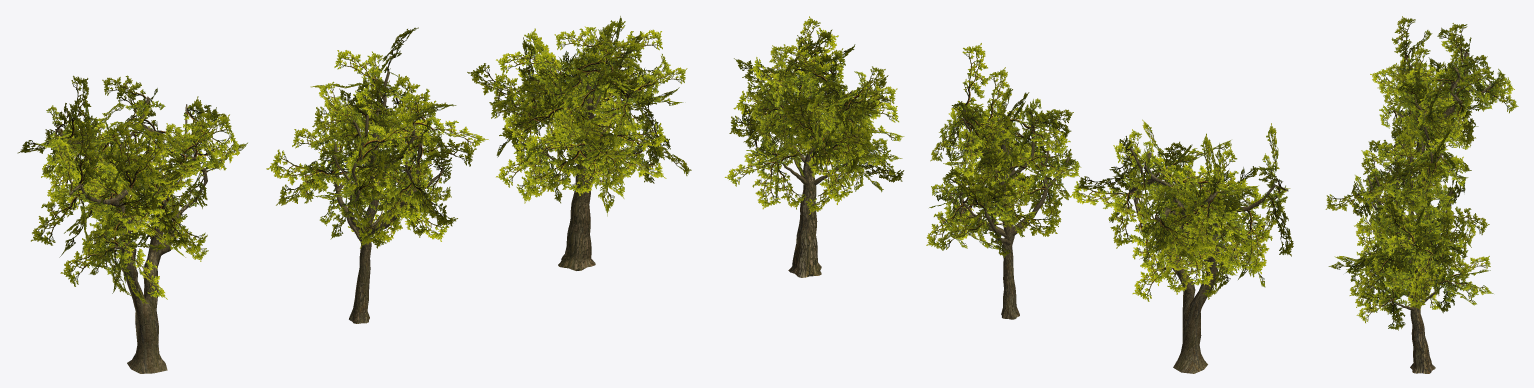
The picture shows the model from 3 angles, left to right: view 1: azimuth 30°, elevation 25°; view 2: azimuth 150°, elevation 25°; view 3: azimuth 270°, elevation 25°; orthographic projection. The views are drawn at different scales.
Visible parts, largest first — view 1: Tree1, Tree3, Tree2; view 2: Tree1, Tree3, Tree2; view 3: Tree3, Tree1, Tree2.
Part boxes in pixels (x1,y1,x2,y2): Tree1: (17, 75, 247, 373); Tree3: (467, 16, 691, 270); Tree2: (266, 27, 488, 323); Tree1: (1069, 119, 1293, 373); Tree3: (724, 16, 904, 277); Tree2: (926, 43, 1081, 319); Tree3: (1328, 199, 1493, 373); Tree1: (1370, 16, 1518, 221); Tree2: (1325, 114, 1489, 248).
Size of the model in its own units: 163 by 71.1 by 64.35.
2 materials, 2 textured.
